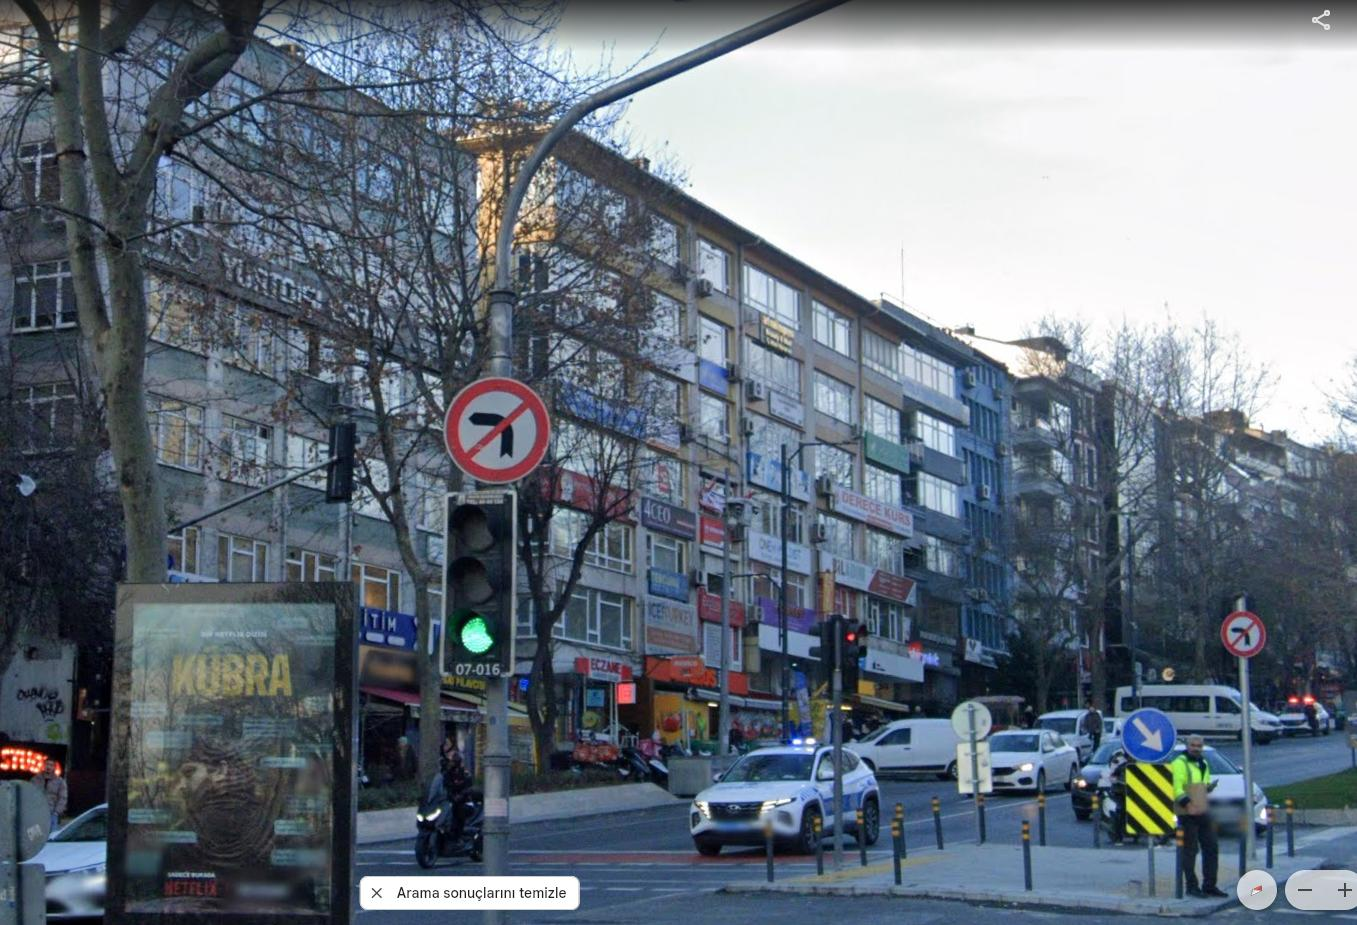greenlight: (445, 494, 510, 656)
leftturnsareforbidden: (448, 379, 550, 480), (1223, 613, 1265, 653)
